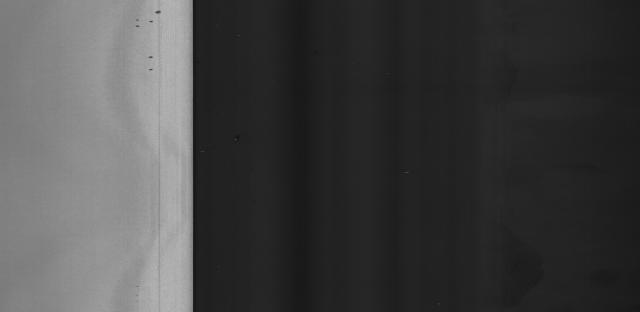oil_spot: (132, 9, 167, 32), (142, 50, 164, 78)
